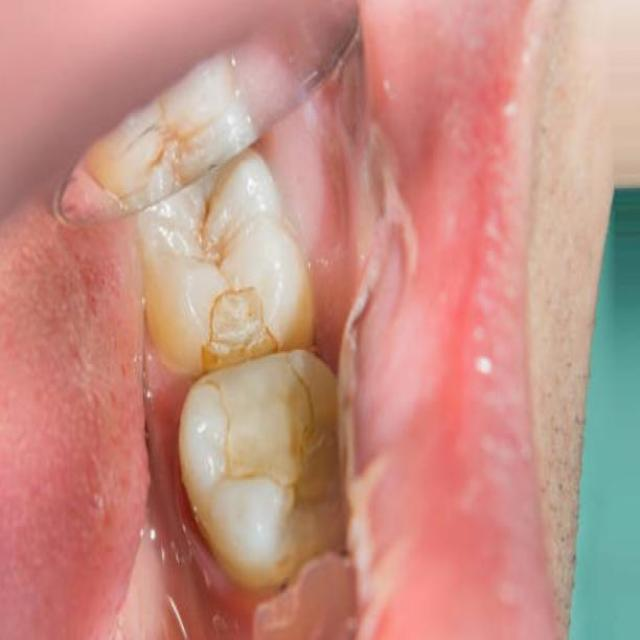caries: (191, 271, 329, 504)
